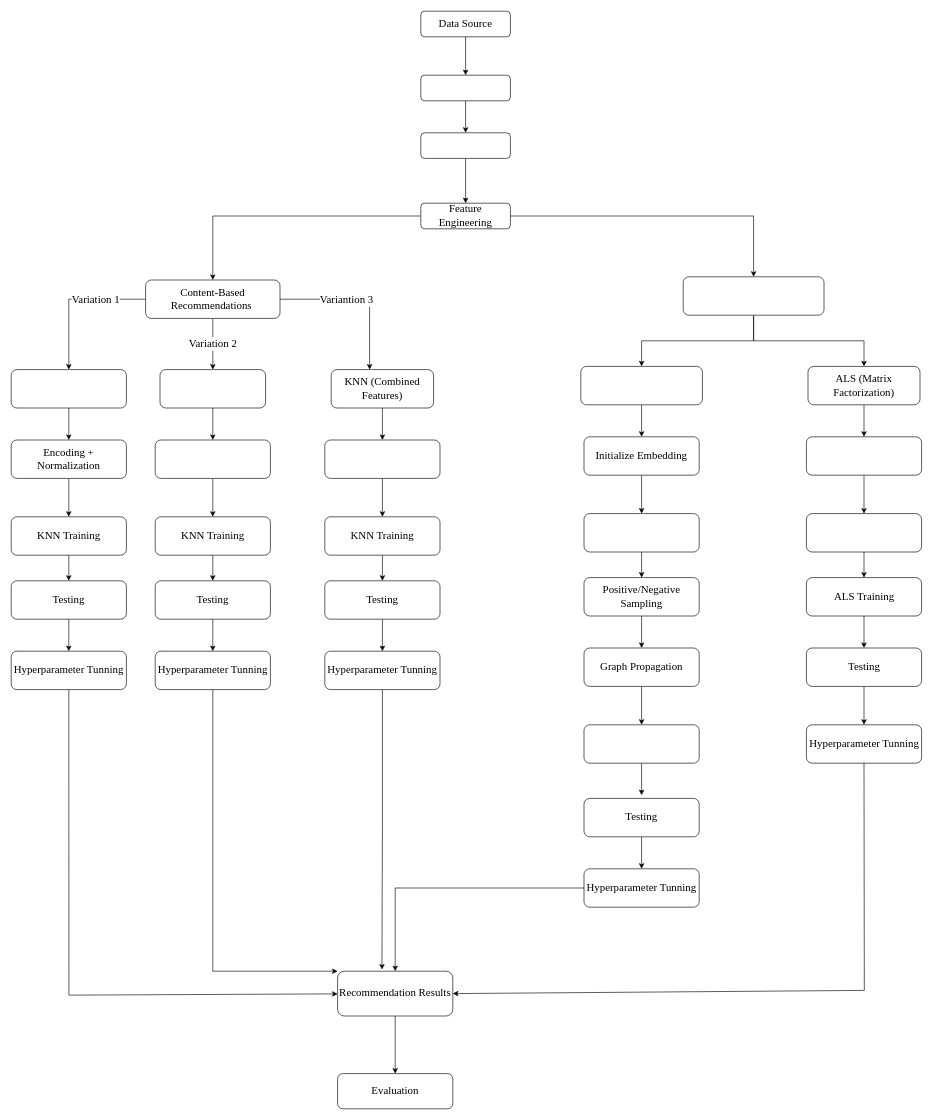
This 933x1120 diagram has some shape labels left out. The shapes that lost their labels are listed below. From the top down, each one's centre as x and y in pixels, then its label:
At point 465,88: "Data Cleaning".
At point 465,145: "Exploratory Data Analysis".
At point 753,295: "User-Behavior recommendations".
At point 68,388: "KNN (Numerical + Categorical)".
At point 212,388: "KNN (Text Features)".
At point 641,385: "LightGCN (Graph Convolutional Network)".
At point 212,458: "Text Vectorization".
At point 382,458: "Encoding + Normalization + Text Vectorization".
At point 864,455: "Map Interaction To Scores".
At point 641,532: "Build User-Item Graph".
At point 864,532: "Build Sparse Matrix".
At point 641,743: "Update Embeddings".
